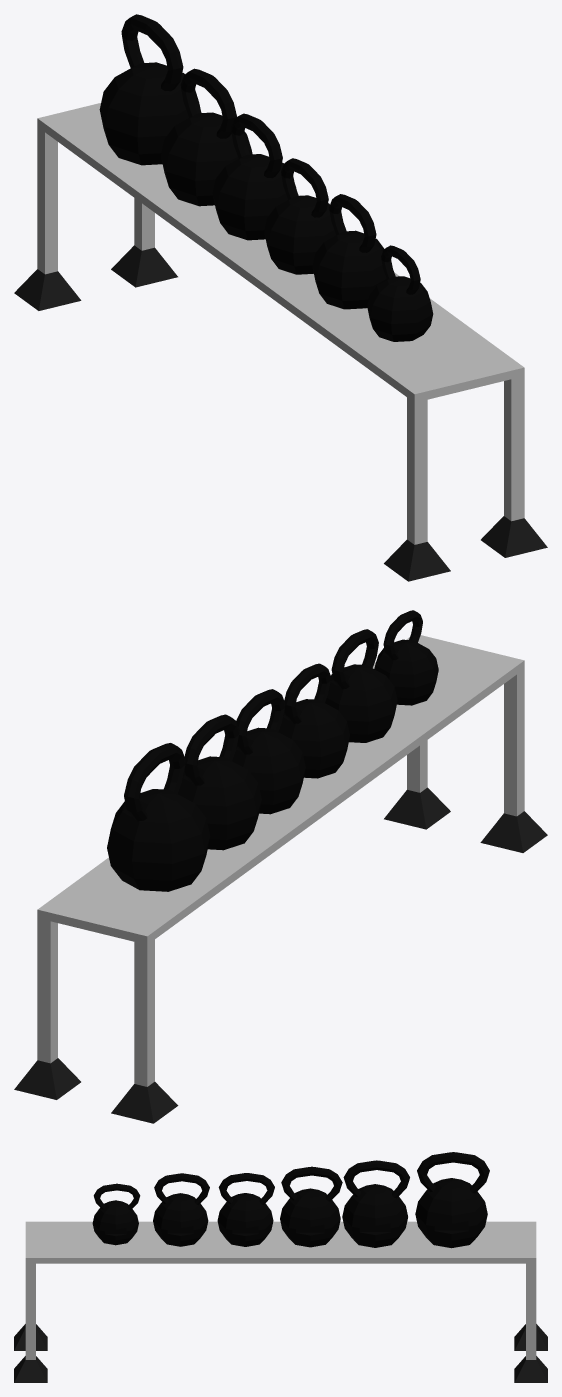
The model's file is KettleBellDumbbellRack.fbx.
3 views of the same model, one above another, from view 1: azimuth 30°, elevation 25°; view 2: azimuth 150°, elevation 25°; view 3: azimuth 270°, elevation 25° (orthographic). The views are drawn at different scales.
Visible parts, largest first — view 1: KettleBellDumbbellRack; view 2: KettleBellDumbbellRack; view 3: KettleBellDumbbellRack.
Boxes of the visible parts, left/top/right/bottom form: KettleBellDumbbellRack: left=14, top=14, right=547, bottom=581; KettleBellDumbbellRack: left=14, top=610, right=547, bottom=1123; KettleBellDumbbellRack: left=14, top=1152, right=547, bottom=1382.
Bounding box in the file's own units: 26.46 × 55.4 × 129.
